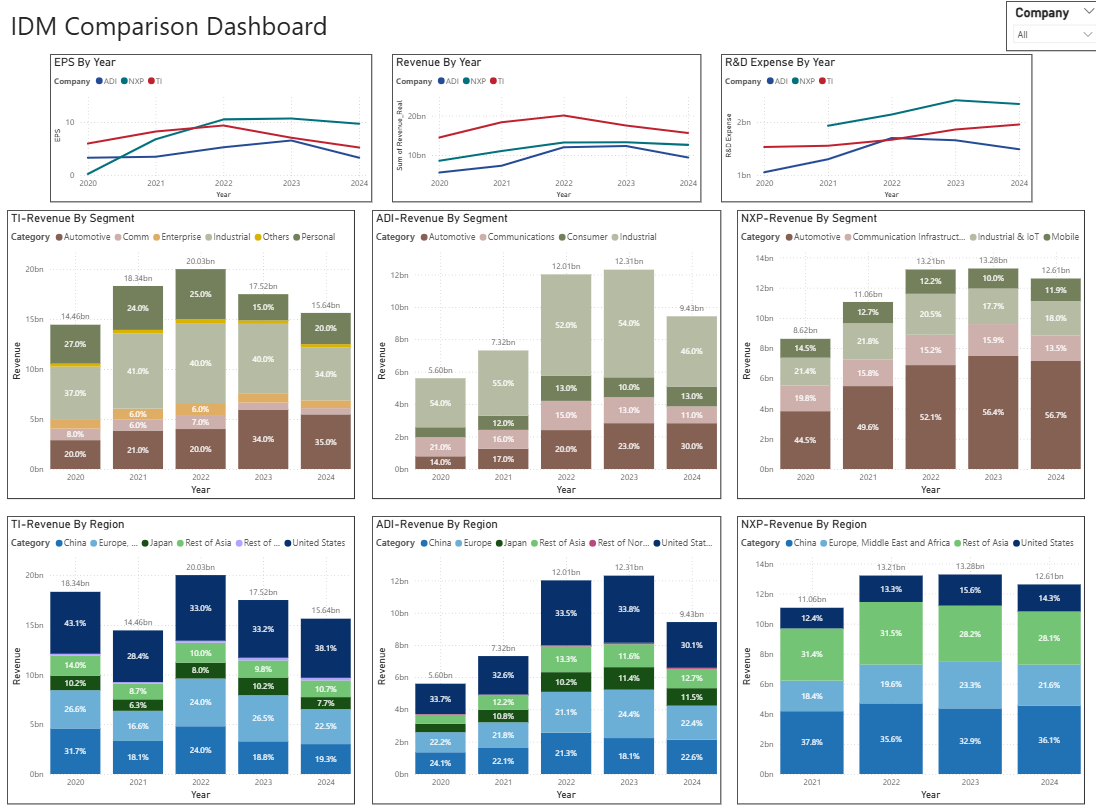

Layout of this report page (visuals, bound fields, positions):
{"tool":"powerbi","page":{"name":"Dashboard","canvas":[1680,1200],"ordinal":0},"visuals":[{"type":"lineChart","title":"Revenue By Year","fields":{"Category":["Clean.Year"],"Series":["Clean.Company"],"Y":["Sum(Clean.Revenue_Real)"]},"box":[614.8,87.2,456.7,218.7],"z":0},{"type":"lineChart","title":"EPS By Year","fields":{"Category":["Clean.Year"],"Y":["Sum(Clean.Index)"],"Series":["Clean.Company"]},"box":[109.4,87.2,475.9,218.7],"z":1000},{"type":"lineChart","title":"R&D Expense By Year","fields":{"Category":["Clean.Year"],"Series":["Clean.Company"],"Y":["Sum(Clean.R&D_Real)"]},"box":[1101,87.2,459.6,218.7],"z":2000},{"type":"columnChart","title":"ADI-Revenue By Segment","fields":{"Category":["Clean.Year"],"Series":["Clean.Category"],"Y":["Sum(Clean.Industry_Revenue)"]},"box":[585.2,317.7,515.8,427.1],"z":3000},{"type":"columnChart","title":"TI-Revenue By Segment","fields":{"Category":["Clean.Year"],"Series":["Clean.Category"],"Y":["Sum(Clean.Industry_Revenue)"]},"box":[45.8,317.7,514.3,427.1],"z":4000},{"type":"columnChart","title":"NXP-Revenue By Segment","fields":{"Category":["Clean.Year"],"Series":["Clean.Category"],"Y":["Sum(Clean.Industry_Revenue)"]},"box":[1124.6,317.7,514.3,427.1],"z":5000},{"type":"columnChart","title":"TI-Revenue By Region","fields":{"Category":["Clean.Year"],"Y":["Sum(Clean.Region_Real)"],"Series":["Clean.Category"]},"box":[45.8,770,514.3,425.6],"z":5001},{"type":"columnChart","title":"ADI-Revenue By Region","fields":{"Category":["Clean.Year"],"Series":["Clean.Category"],"Y":["Sum(Clean.Region_Real)"]},"box":[585.2,770,515.8,425.6],"z":5002},{"type":"columnChart","title":"NXP-Revenue By Region","fields":{"Category":["Clean.Year"],"Series":["Clean.Category"],"Y":["Sum(Clean.Region_Real)"]},"box":[1124.6,770,514.3,425.6],"z":5003},{"type":"slicer","fields":{"Values":["Clean.Company"]},"box":[1522.2,8.9,144.8,73.9],"z":5005},{"type":"textbox","box":[45.8,14.8,539.4,68],"z":5006}]}

Visuals, with their boxes in screenshot pixels (x1, y1, x2, y2), scaled from the page's 1680x1200 canvas onto the 1096x805 screenshot:
"Revenue By Year" lineChart: left=401, top=58, right=699, bottom=205
"EPS By Year" lineChart: left=71, top=58, right=382, bottom=205
"R&D Expense By Year" lineChart: left=718, top=58, right=1018, bottom=205
"ADI-Revenue By Segment" columnChart: left=382, top=213, right=718, bottom=500
"TI-Revenue By Segment" columnChart: left=30, top=213, right=365, bottom=500
"NXP-Revenue By Segment" columnChart: left=734, top=213, right=1069, bottom=500
"TI-Revenue By Region" columnChart: left=30, top=517, right=365, bottom=802
"ADI-Revenue By Region" columnChart: left=382, top=517, right=718, bottom=802
"NXP-Revenue By Region" columnChart: left=734, top=517, right=1069, bottom=802
slicer - Clean.Company: left=993, top=6, right=1088, bottom=56
textbox: left=30, top=10, right=382, bottom=56
